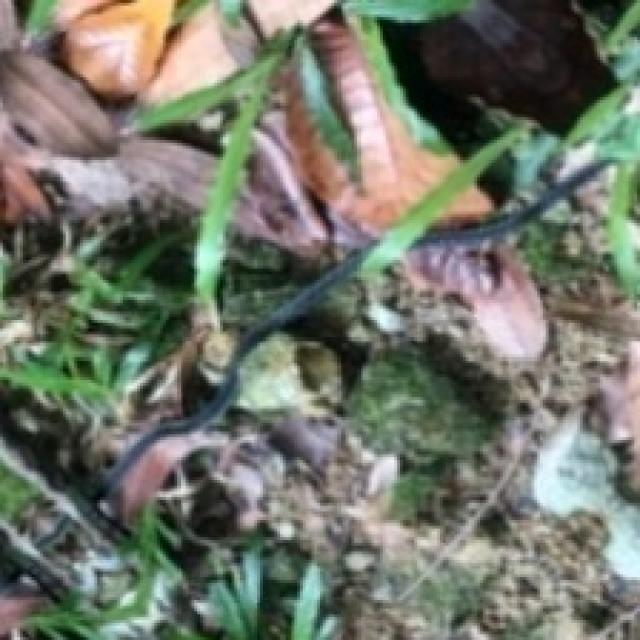king cobra: (103, 14, 603, 514), (100, 134, 606, 500), (180, 220, 351, 411), (214, 414, 340, 520)
